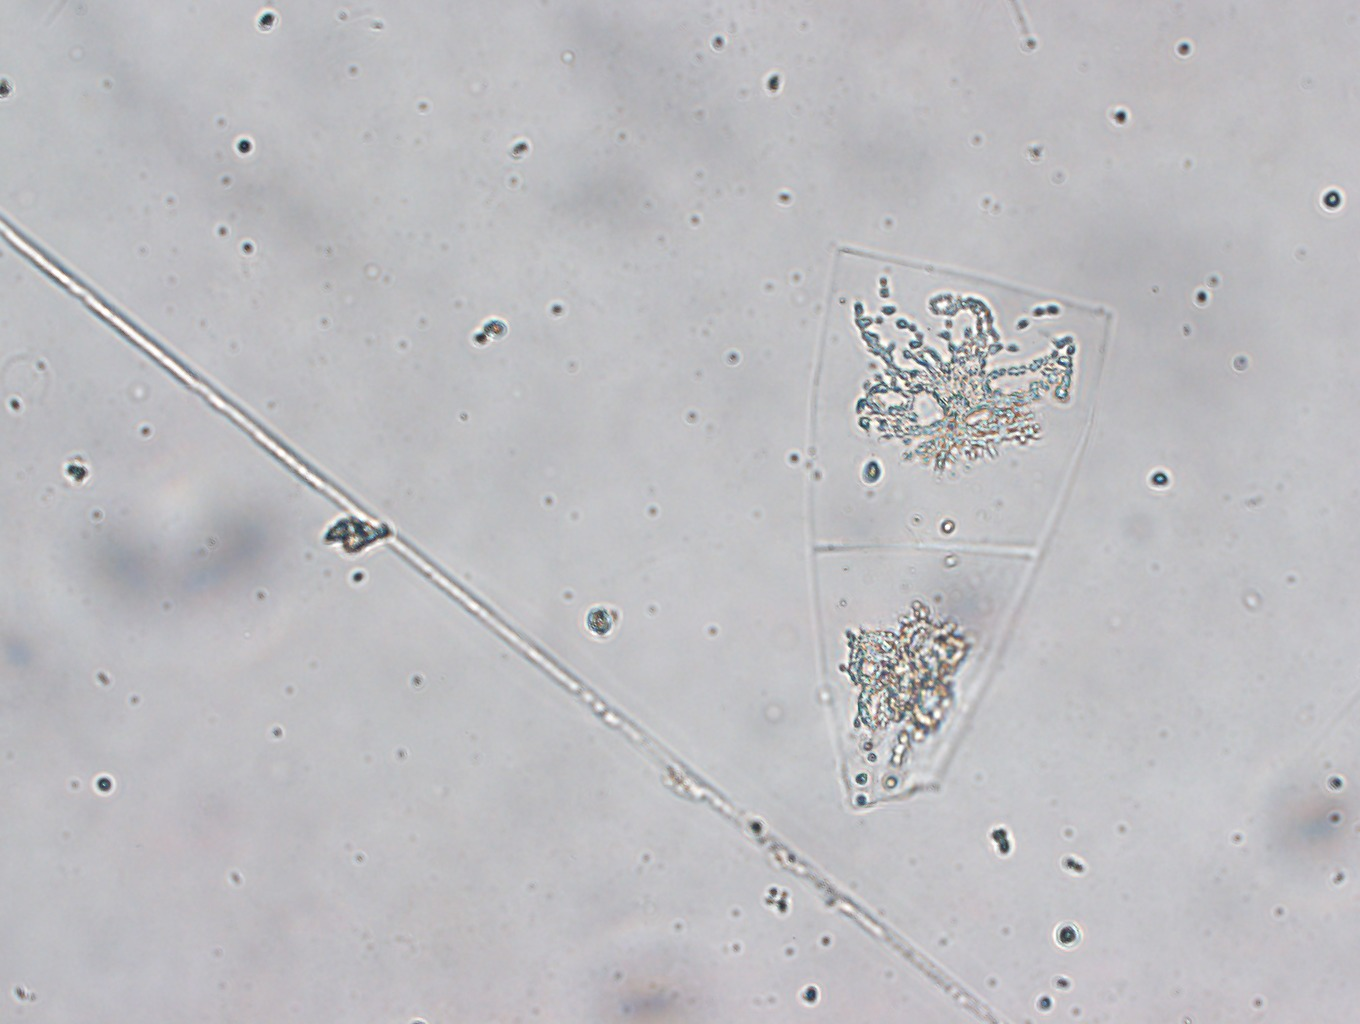helicotheca: (808, 247, 1112, 810)
